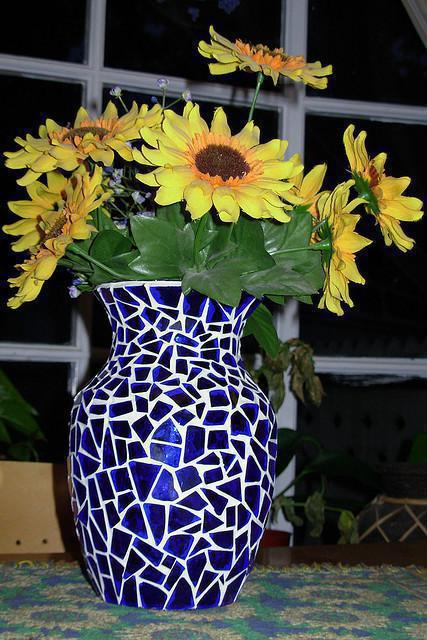Matera: (18, 40, 393, 612)
